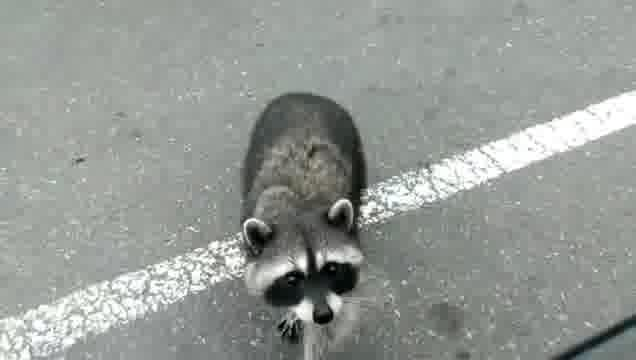raccoon: (235, 94, 373, 342)
